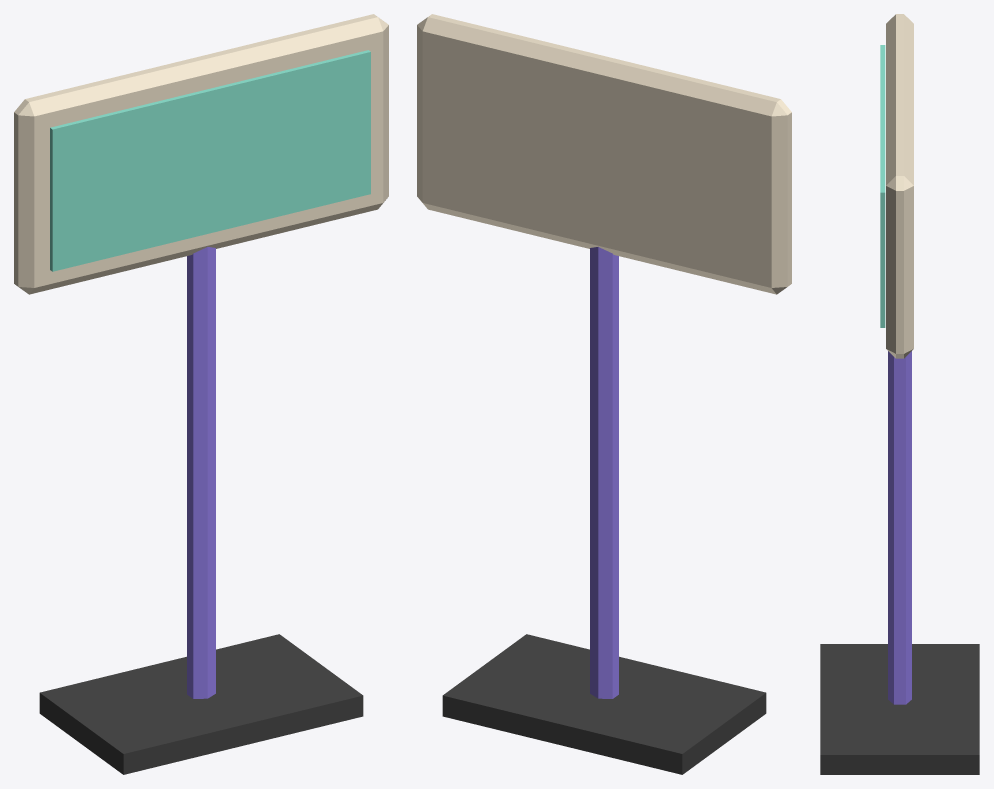
The picture shows the model from 3 angles, left to right: view 1: azimuth 30°, elevation 25°; view 2: azimuth 150°, elevation 25°; view 3: azimuth 270°, elevation 25°; orthographic projection. The views are drawn at different scales.
Visible parts, largest first — view 1: Inset, Sign panel, Foot, Stand; view 2: Sign panel, Foot, Stand; view 3: Foot, Sign panel, Stand, Inset.
Part boxes in pixels (x1,y1,x2,y2): Inset: (50,50,370,271); Sign panel: (14,14,388,294); Foot: (39,634,363,774); Stand: (187,247,215,698); Sign panel: (417,14,791,294); Foot: (442,634,766,774); Stand: (590,247,618,698); Foot: (820,644,979,774); Sign panel: (886,14,913,358); Stand: (888,351,911,704); Inset: (880,45,885,327).
Size of the model in its own units: 1.02 by 1.73 by 0.4.
Materials: 1 (1 with a texture image).
